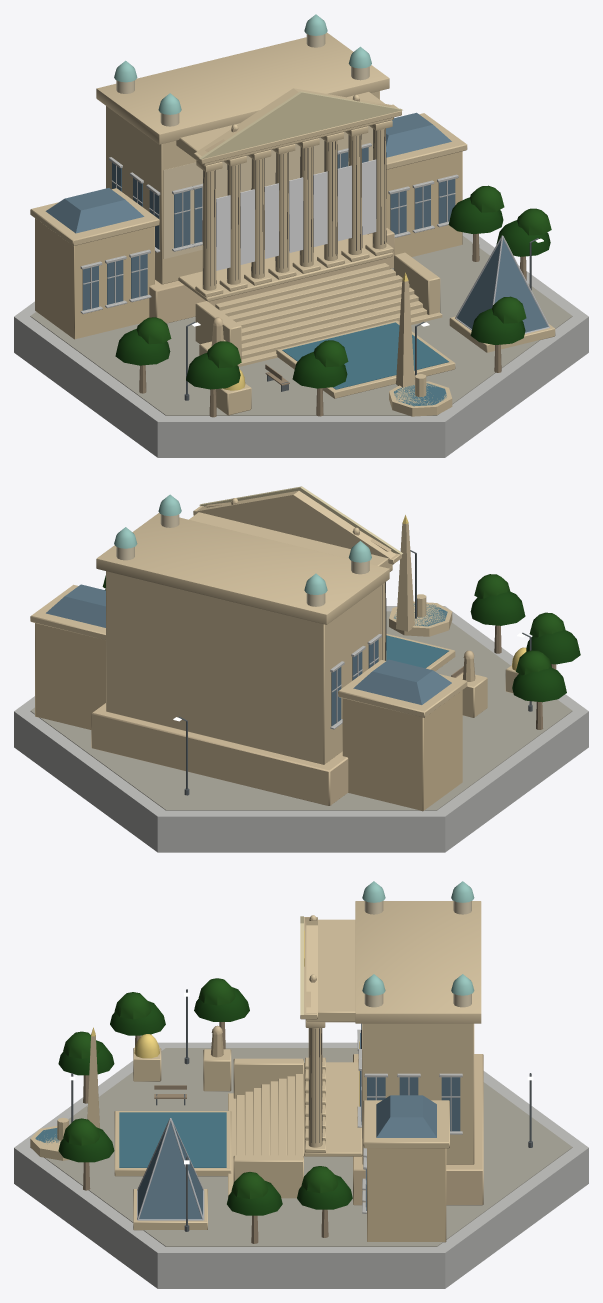
File: museum_arab.glb
The picture shows the model from 3 angles, top to bottom: view 1: azimuth 30°, elevation 25°; view 2: azimuth 150°, elevation 25°; view 3: azimuth 270°, elevation 25°; orthographic projection.
Visible parts, largest first — view 1: stone, wall_concrete, glass, pavers, leaf, banner, plaster, dark, copper, wood, metal; view 2: stone, wall_concrete, pavers, glass, leaf, copper, plaster, wood; view 3: stone, wall_concrete, pavers, glass, leaf, copper, wood, plaster, metal, steel_dark, gold.
Part boxes in pixels (x1=…): stone: x1=30, y1=32, x2=555, y2=416; wall_concrete: x1=14, y1=143, x2=588, y2=457; glass: x1=45, y1=112, x2=547, y2=406; pavers: x1=30, y1=236, x2=572, y2=415; leaf: x1=115, y1=185, x2=551, y2=389; banner: x1=216, y1=159, x2=376, y2=270; plaster: x1=116, y1=34, x2=372, y2=258; dark: x1=202, y1=128, x2=386, y2=285; copper: x1=114, y1=14, x2=371, y2=114; wood: x1=139, y1=233, x2=526, y2=417; metal: x1=455, y1=235, x2=549, y2=333; stone: x1=30, y1=486, x2=518, y2=811; wall_concrete: x1=14, y1=606, x2=588, y2=852; pavers: x1=30, y1=611, x2=572, y2=810; glass: x1=46, y1=584, x2=451, y2=726; leaf: x1=102, y1=574, x2=580, y2=702; copper: x1=114, y1=494, x2=371, y2=594; plaster: x1=116, y1=514, x2=369, y2=606; wood: x1=451, y1=625, x2=556, y2=729; stone: x1=30, y1=901, x2=483, y2=1242; wall_concrete: x1=14, y1=1023, x2=588, y2=1288; pavers: x1=30, y1=1048, x2=572, y2=1246; glass: x1=35, y1=1024, x2=460, y2=1219; leaf: x1=58, y1=978, x2=352, y2=1215; copper: x1=362, y1=881, x2=474, y2=995; wood: x1=83, y1=1022, x2=328, y2=1243; plaster: x1=362, y1=901, x2=471, y2=1138; metal: x1=137, y1=1118, x2=204, y2=1220; steel_dark: x1=71, y1=989, x2=532, y2=1231; gold: x1=91, y1=930, x2=359, y2=1106.
Size of the model in its own units: 21.94 by 12.3 by 24.6.
